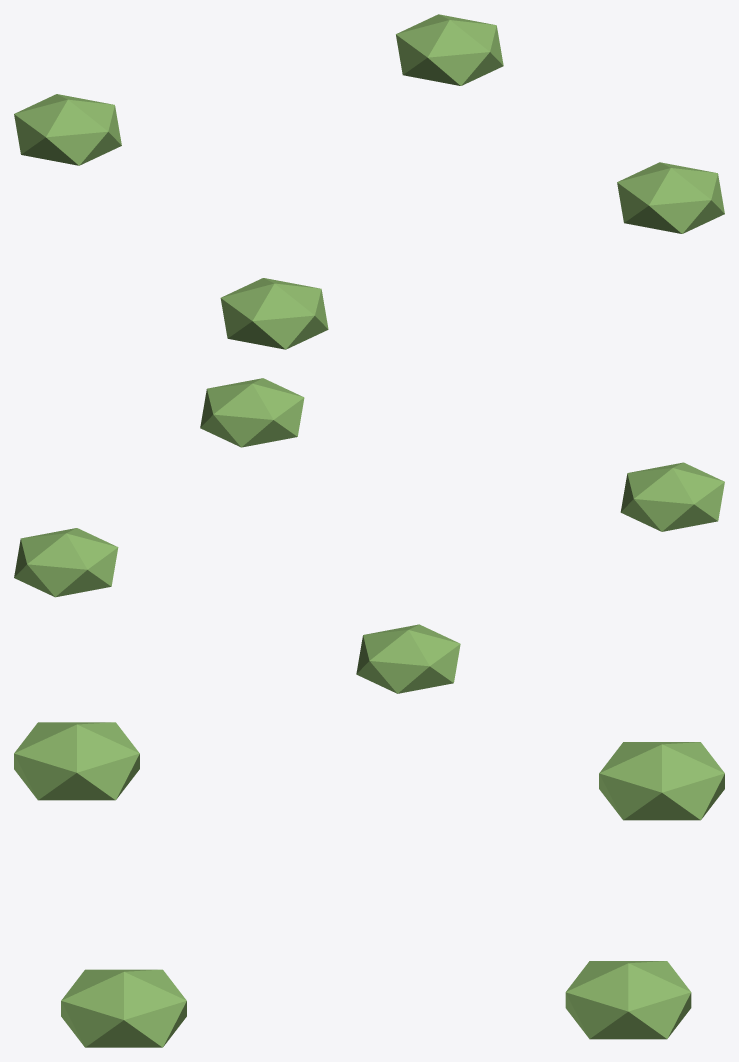
Rendered from crop_cabbage_young.glb.
3 views of the same model, one above another, from view 1: azimuth 30°, elevation 25°; view 2: azimuth 150°, elevation 25°; view 3: azimuth 270°, elevation 25° (orthographic). The views are drawn at different scales.
Parts seen in each view (by area): view 1: crop_cabbage_young; view 2: crop_cabbage_young; view 3: crop_cabbage_young.
Part boxes in pixels (x1,y1,x2,y2): crop_cabbage_young: (14,14,724,349); crop_cabbage_young: (14,378,724,693); crop_cabbage_young: (14,722,724,1047).
Bounding box in the file's own units: 1.07 × 0.121 × 1.06.
